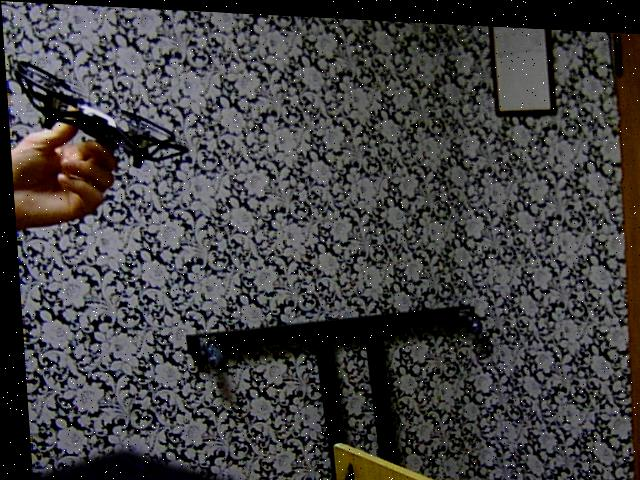drone: (3, 51, 204, 173)
